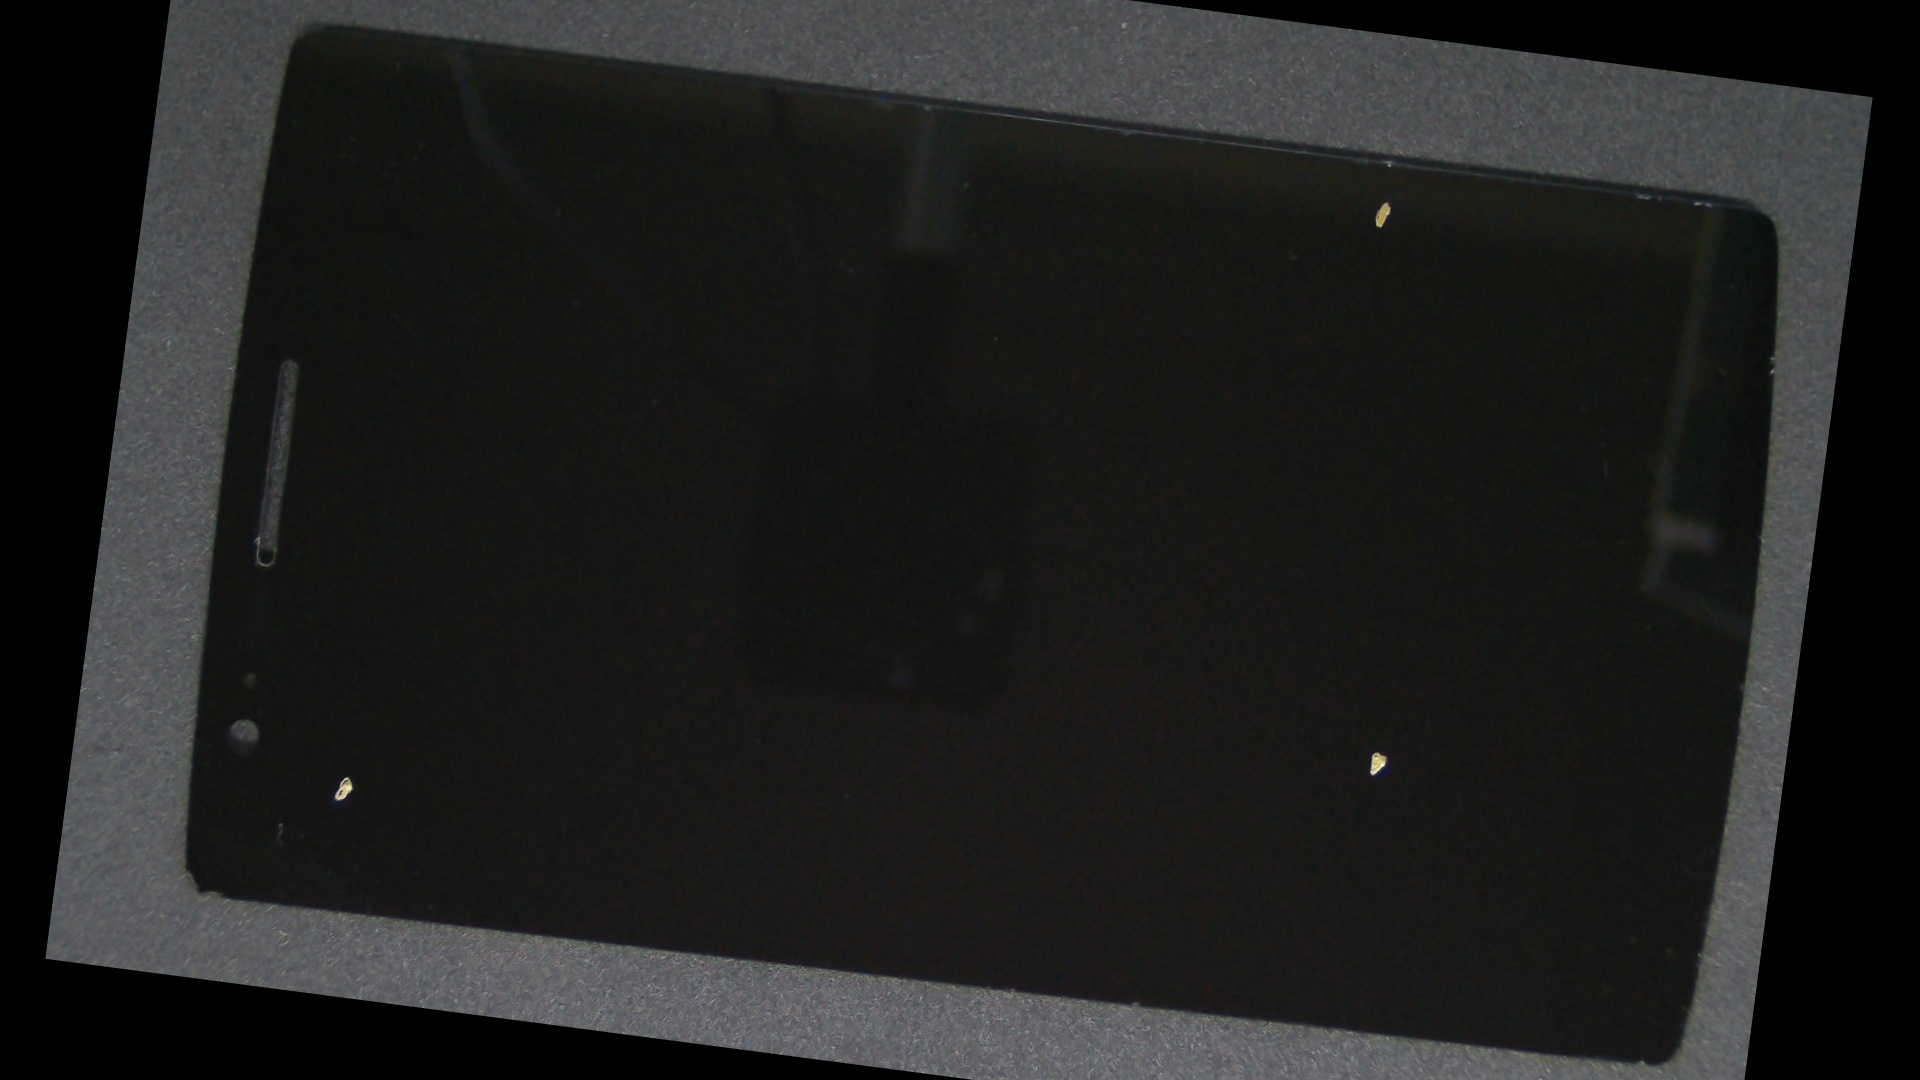oil: (691, 313, 1826, 1080), (762, 38, 1862, 345), (183, 326, 542, 1013)
